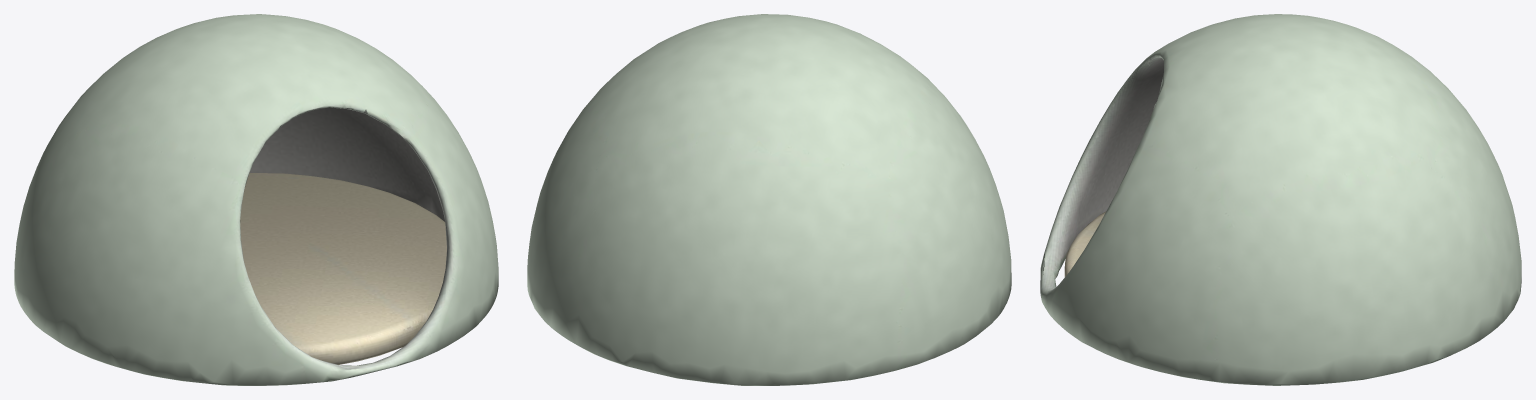
File: hideout.glb
3 renders of one model, left to right at view 1: azimuth 30°, elevation 25°; view 2: azimuth 150°, elevation 25°; view 3: azimuth 270°, elevation 25°, orthographic.
Visible parts, largest first — view 1: hideout.001; view 2: hideout.001; view 3: hideout.001.
Part boxes in pixels (x1,y1,x2,y2): hideout.001: [14, 14, 498, 385]; hideout.001: [527, 14, 1011, 385]; hideout.001: [1040, 14, 1521, 385].
Bounding box in the file's own units: 1.44 × 0.8196 × 1.43.
Materials: 1 (1 with a texture image).
